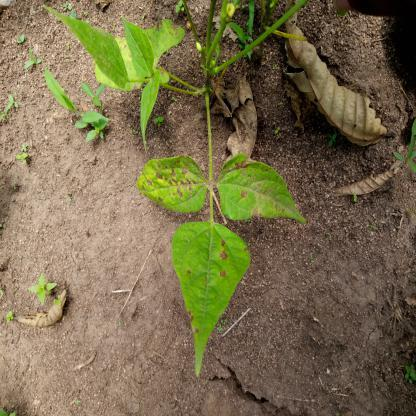Beans_Angular_LeafSpot: (168, 218, 250, 362), (217, 150, 303, 223), (136, 152, 207, 222)
